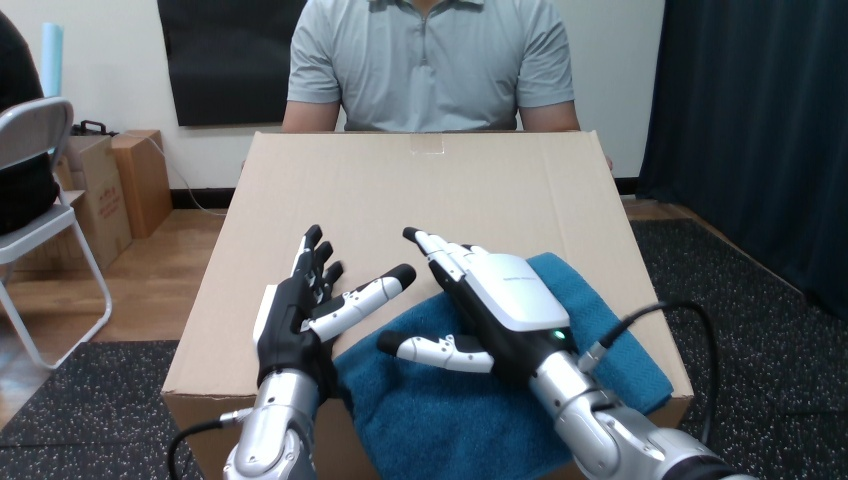left robot hand: (378, 227, 753, 479), (168, 225, 415, 479), (592, 306, 712, 442)
